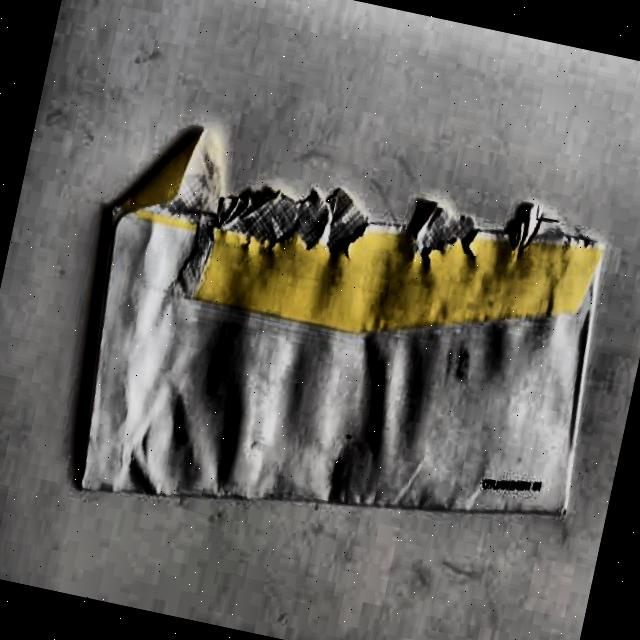paper: (43, 104, 640, 608)
